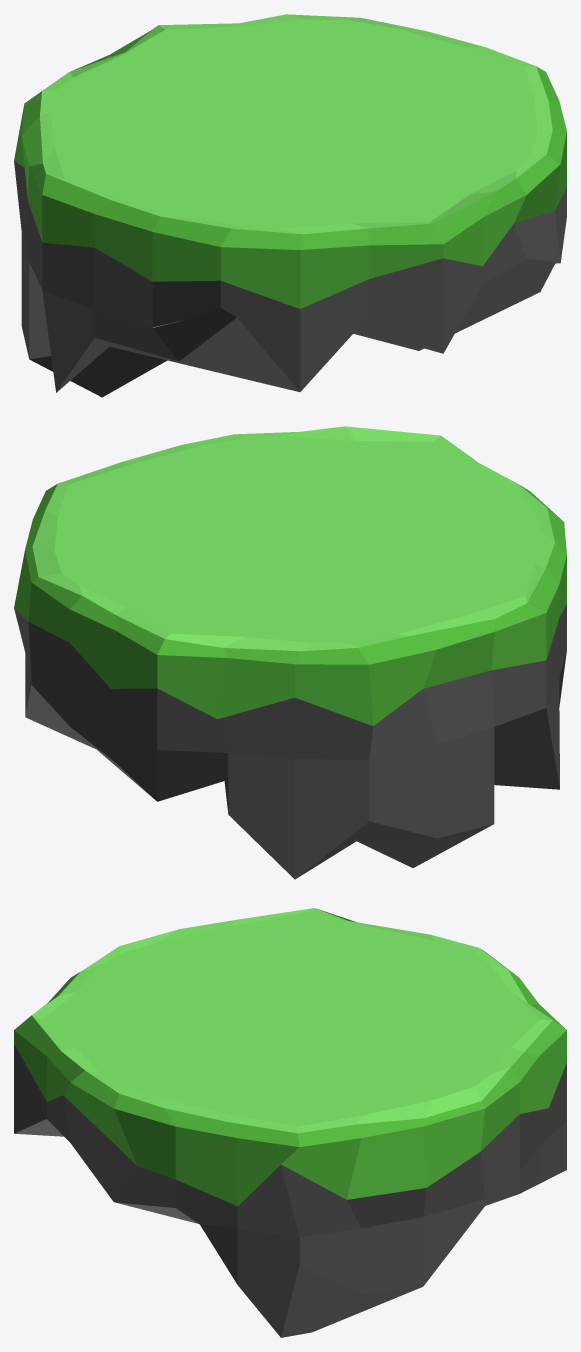
The model's file is Temp_Area.fbx.
3 renders of one model, top to bottom at view 1: azimuth 30°, elevation 25°; view 2: azimuth 150°, elevation 25°; view 3: azimuth 270°, elevation 25°, orthographic. The views are drawn at different scales.
Visible parts, largest first — view 1: Cube; view 2: Cube; view 3: Cube.
Boxes of the visible parts, box(x1,y1,x2,y2) form: Cube: box(14, 14, 566, 397); Cube: box(14, 426, 566, 879); Cube: box(14, 908, 566, 1337).
Bounding box in the file's own units: 1933 × 991 × 1942.
